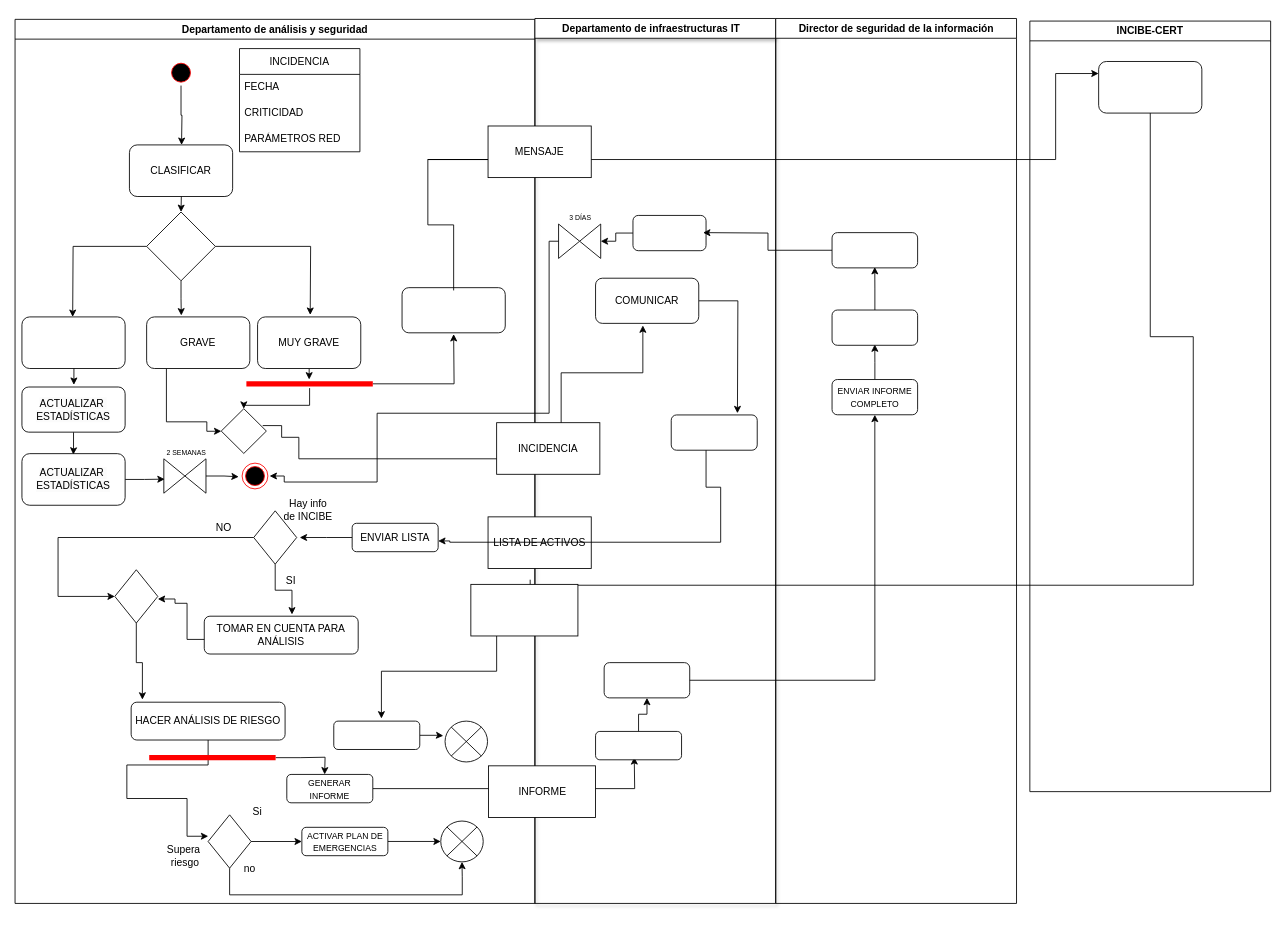
Image size: 1286x925. Some labels were removed from this diagram. The shapes that lost their labels are listed below. From the top down, each one's centre as x and y in pixels, then its label:
(1150,87): ENVIAR MENSAJE
(669,233): IMPLEMENTAR SALVAGUARDAS
(874,250): DECIDIR SALVAGUARDAS
(453,310): RELLENAR FORMULARIO DE INCIBE
(874,327): CALIFICAR RIESGO
(73,342): LEVE
(713,432): GENERAR LISTA DE ACTIVOS
(524,610): INFORMACIÓN
(646,680): COMPLEMENTAR CON VALORACIÓN DE COSTES
(376,734): ADJUNTAR INFORMACIÓN
(638,745): RECIBIR INFORME
